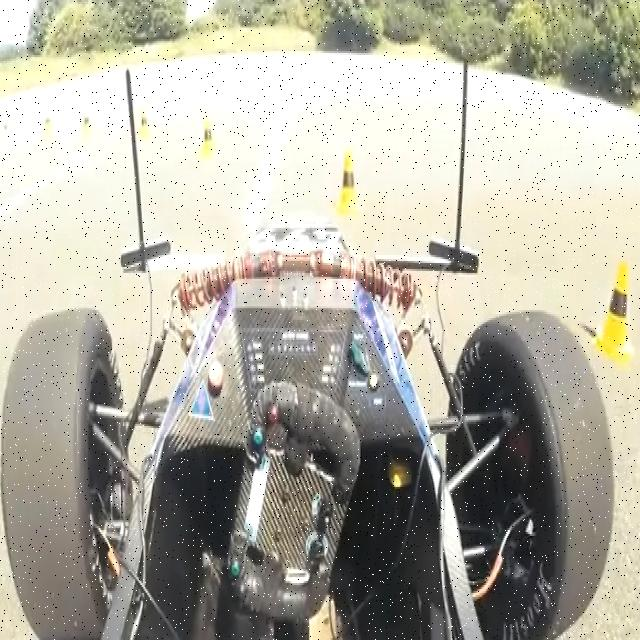yellow_cone: (593, 251, 639, 369), (334, 148, 363, 232), (198, 112, 218, 172)
